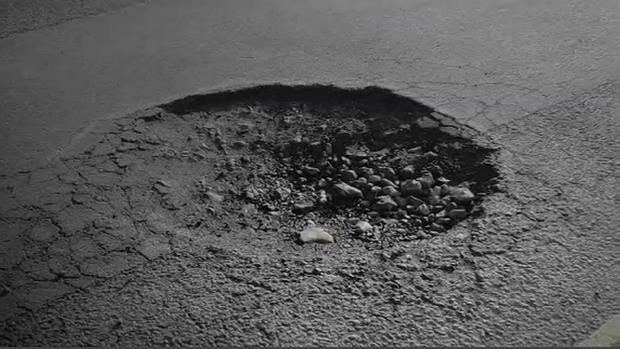pothole: (117, 60, 521, 281)
